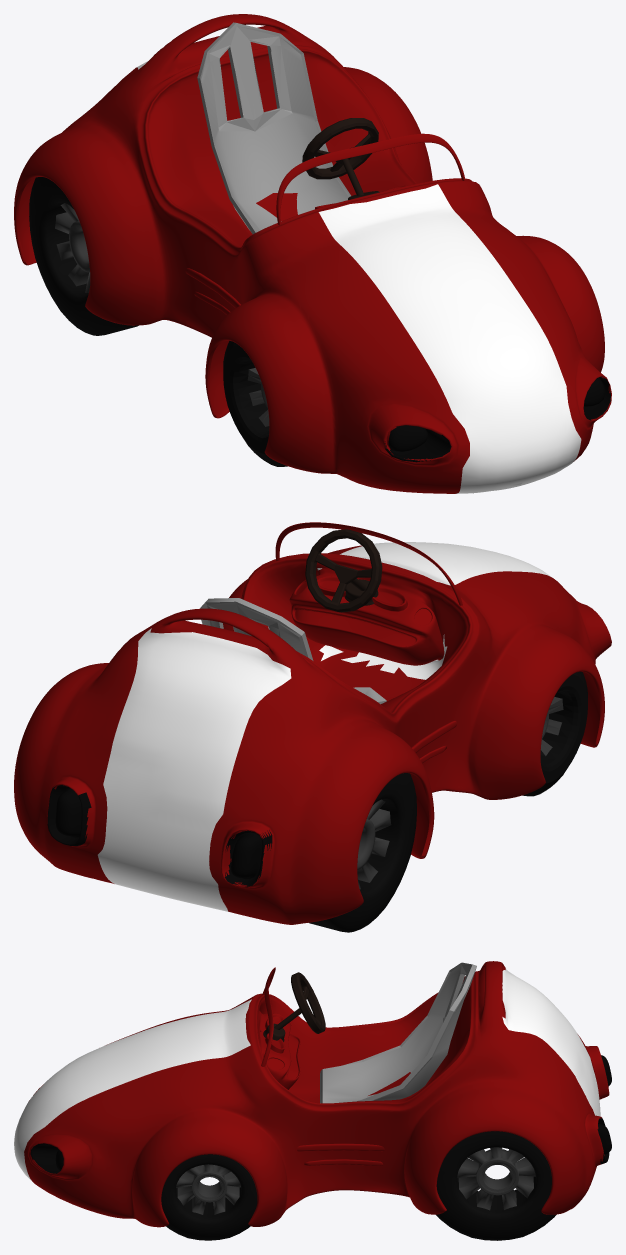
Rendered from Snake Car.FBX.
The picture shows the model from 3 angles, top to bottom: view 1: azimuth 30°, elevation 25°; view 2: azimuth 150°, elevation 25°; view 3: azimuth 270°, elevation 25°; orthographic projection. The views are drawn at different scales.
Visible parts, largest first — view 1: Tube001, Line001, Object005, Object006, Group2990, Cylinder001; view 2: Tube001, Object005, Object006, Cylinder001, Line001, Group2990; view 3: Tube001, Object003, Line001, Object002, Cylinder001, Box002, Group2990, Object002snakecar.
Part boxes in pixels (x1=…): Tube001: x1=14, y1=14, x2=611, y2=493; Line001: x1=197, y1=22, x2=350, y2=234; Object005: x1=29, y1=177, x2=138, y2=335; Object006: x1=223, y1=341, x2=287, y2=466; Group2990: x1=276, y1=133, x2=465, y2=225; Cylinder001: x1=302, y1=118, x2=378, y2=179; Tube001: x1=14, y1=542, x2=611, y2=924; Object005: x1=308, y1=773, x2=416, y2=932; Object006: x1=522, y1=671, x2=587, y2=796; Cylinder001: x1=305, y1=529, x2=382, y2=612; Line001: x1=200, y1=598, x2=386, y2=704; Group2990: x1=275, y1=522, x2=462, y2=605; Tube001: x1=14, y1=961, x2=611, y2=1227; Object003: x1=436, y1=1131, x2=556, y2=1240; Line001: x1=320, y1=962, x2=476, y2=1103; Object002: x1=161, y1=1154, x2=257, y2=1240; Cylinder001: x1=291, y1=972, x2=325, y2=1033; Box002: x1=297, y1=1143, x2=384, y2=1151; Group2990: x1=261, y1=967, x2=275, y2=1066; Object002snakecar: x1=304, y1=1159, x2=383, y2=1165.
Bounding box in the file's own units: 145 × 115 × 280.
